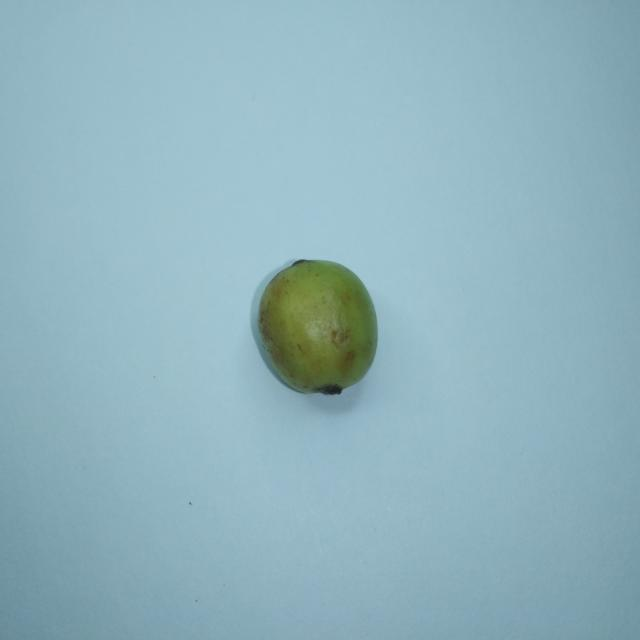Sano: (251, 260, 377, 394)
